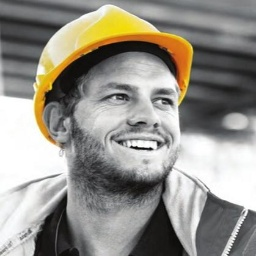helmet: (31, 3, 196, 141)
person: (32, 3, 197, 256)
